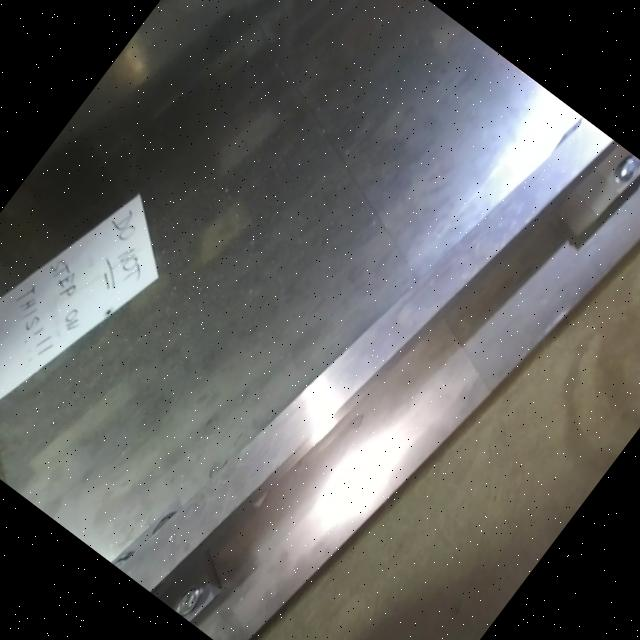blocks: (104, 462, 284, 638), (502, 105, 640, 259)
